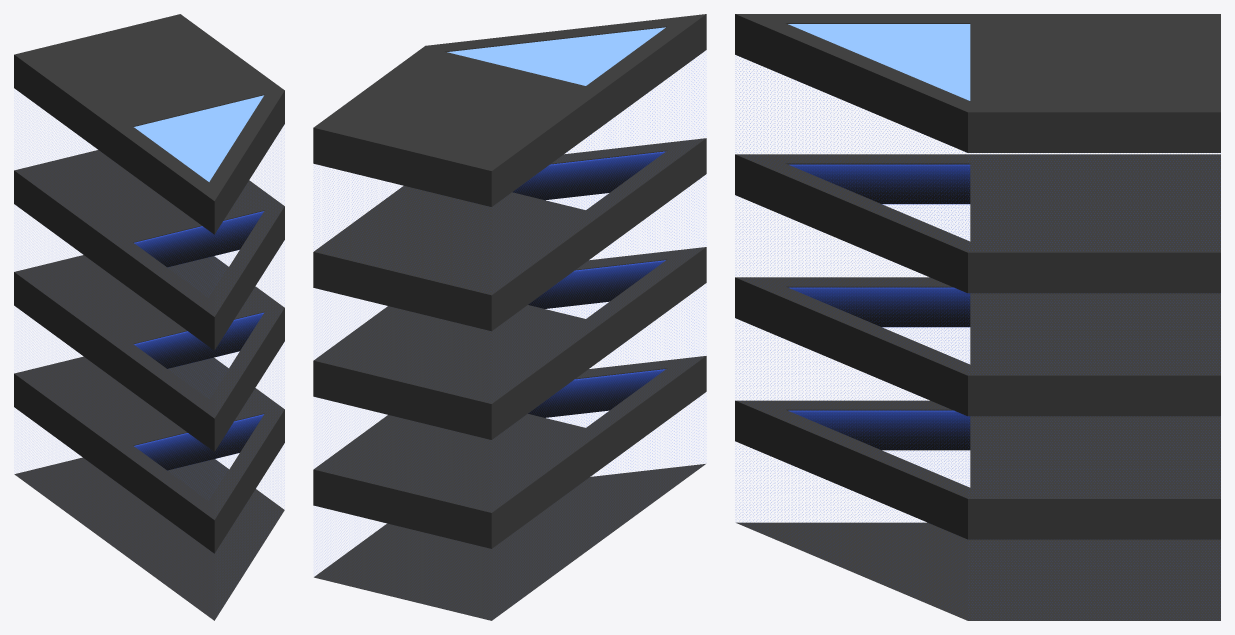
The model's file is okex2-interior.glb.
3 views of the same model, side by side, from view 1: azimuth 30°, elevation 25°; view 2: azimuth 150°, elevation 25°; view 3: azimuth 270°, elevation 25° (orthographic). The views are drawn at different scales.
Parts seen in each view (by area): view 1: Okex_Interior; view 2: Okex_Interior; view 3: Okex_Interior.
Boxes of the visible parts, left/top/right/bottom form: Okex_Interior: left=14, top=14, right=284, bottom=620; Okex_Interior: left=313, top=14, right=706, bottom=620; Okex_Interior: left=735, top=14, right=1220, bottom=620.
Size of what is drawn, in the model's own units: 20.74 by 50 by 43.28.
Materials: 4 (2 with a texture image).
